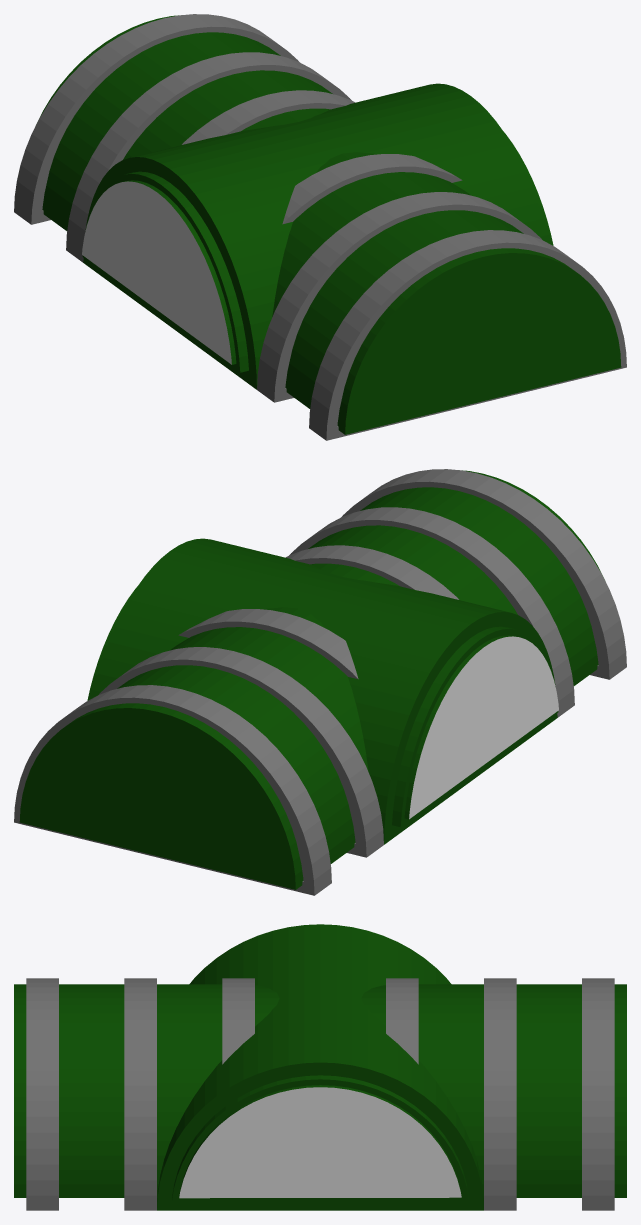
The model's file is hydroPhonicBuilding.fbx.
3 views of the same model, one above another, from view 1: azimuth 30°, elevation 25°; view 2: azimuth 150°, elevation 25°; view 3: azimuth 270°, elevation 25° (orthographic). The views are drawn at different scales.
Parts seen in each view (by area): view 1: hydrophonicBase, hydrophonicEntrance, hydrophonicFrame; view 2: hydrophonicBase, hydrophonicEntrance, hydrophonicFrame; view 3: hydrophonicEntrance, hydrophonicBase, hydrophonicFrame.
Part boxes in pixels (x1,y1,x2,y2): hydrophonicBase: (36, 15, 621, 434); hydrophonicEntrance: (82, 83, 553, 389); hydrophonicFrame: (14, 14, 626, 440); hydrophonicBase: (19, 470, 604, 889); hydrophonicEntrance: (87, 538, 558, 844); hydrophonicFrame: (14, 469, 626, 895); hydrophonicEntrance: (157, 924, 483, 1210); hydrophonicBase: (14, 984, 626, 1197); hydrophonicFrame: (26, 978, 614, 1210).
Bounding box in the file's own units: 218 × 100 × 375.
